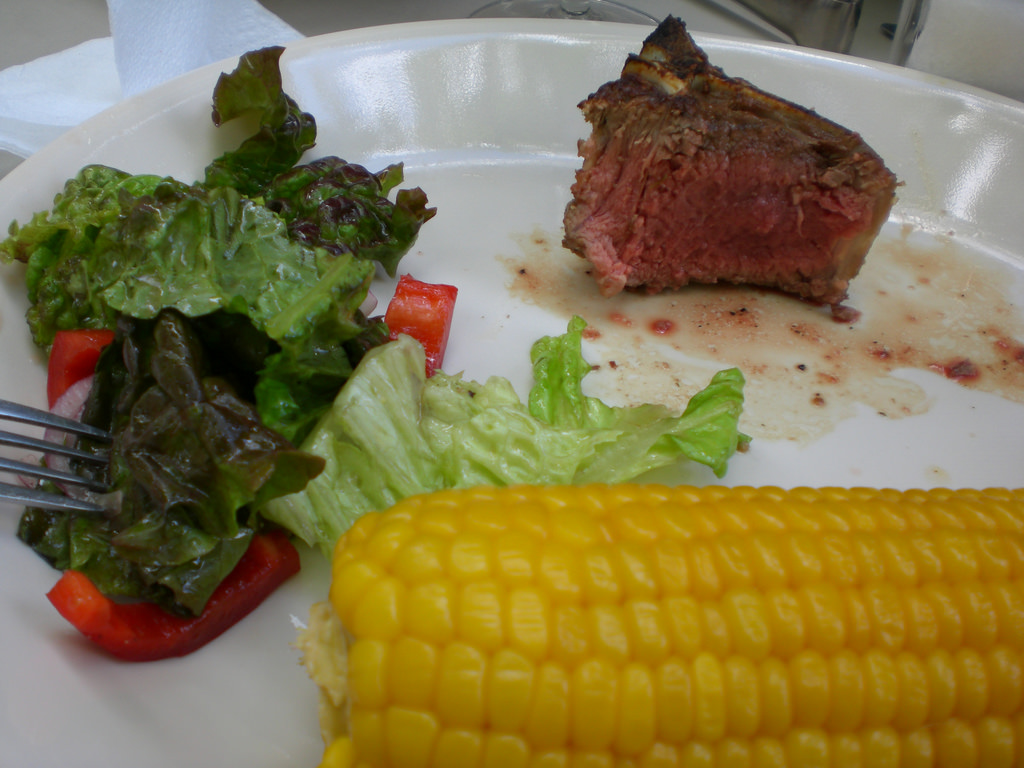chopped lettuce: (60, 106, 391, 592), (314, 339, 756, 501)
